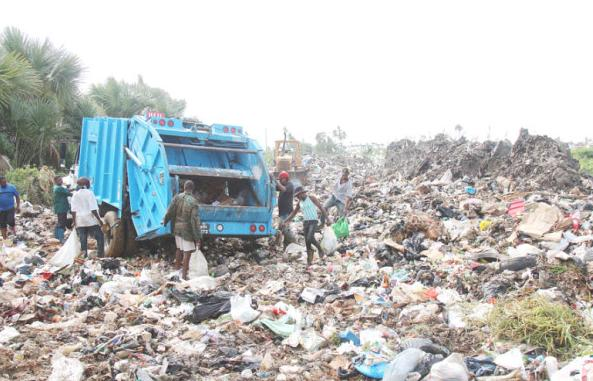garbage: (0, 126, 593, 381)
